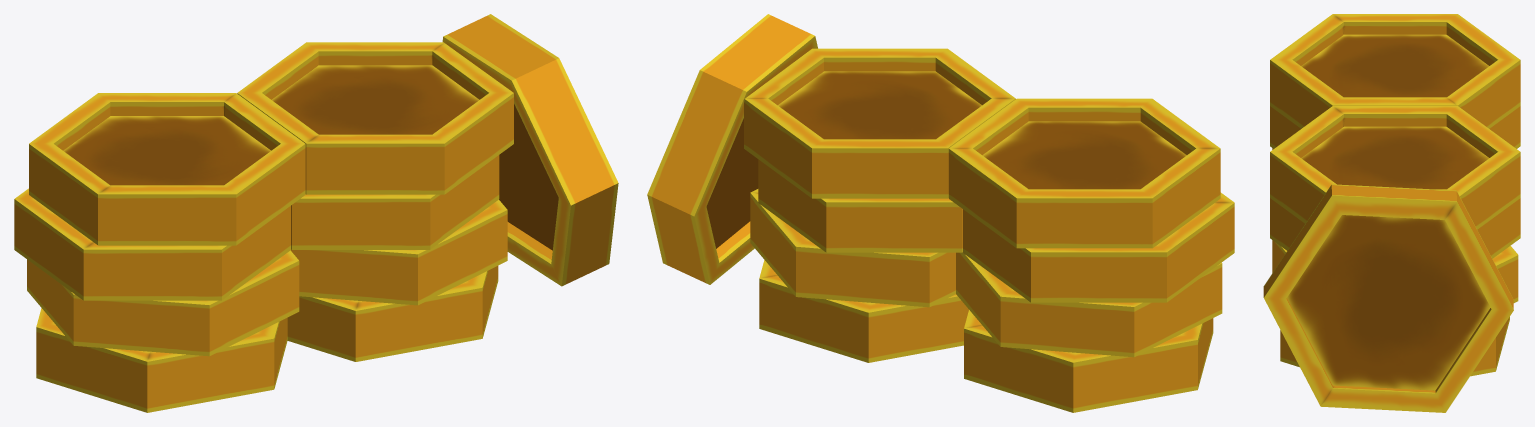
File: prop_honey_cover.fbx
The picture shows the model from 3 angles, left to right: view 1: azimuth 30°, elevation 25°; view 2: azimuth 150°, elevation 25°; view 3: azimuth 270°, elevation 25°; orthographic projection. The views are drawn at different scales.
Visible parts, largest first — view 1: Cylinder; view 2: Cylinder; view 3: Cylinder.
Part boxes in pixels (bbox=[...]): Cylinder: bbox=[14, 14, 618, 412]; Cylinder: bbox=[647, 14, 1234, 412]; Cylinder: bbox=[1263, 14, 1520, 412].
Bounding box in the file's own units: 438 × 187 × 205.
Materials: 2 (2 with a texture image).
